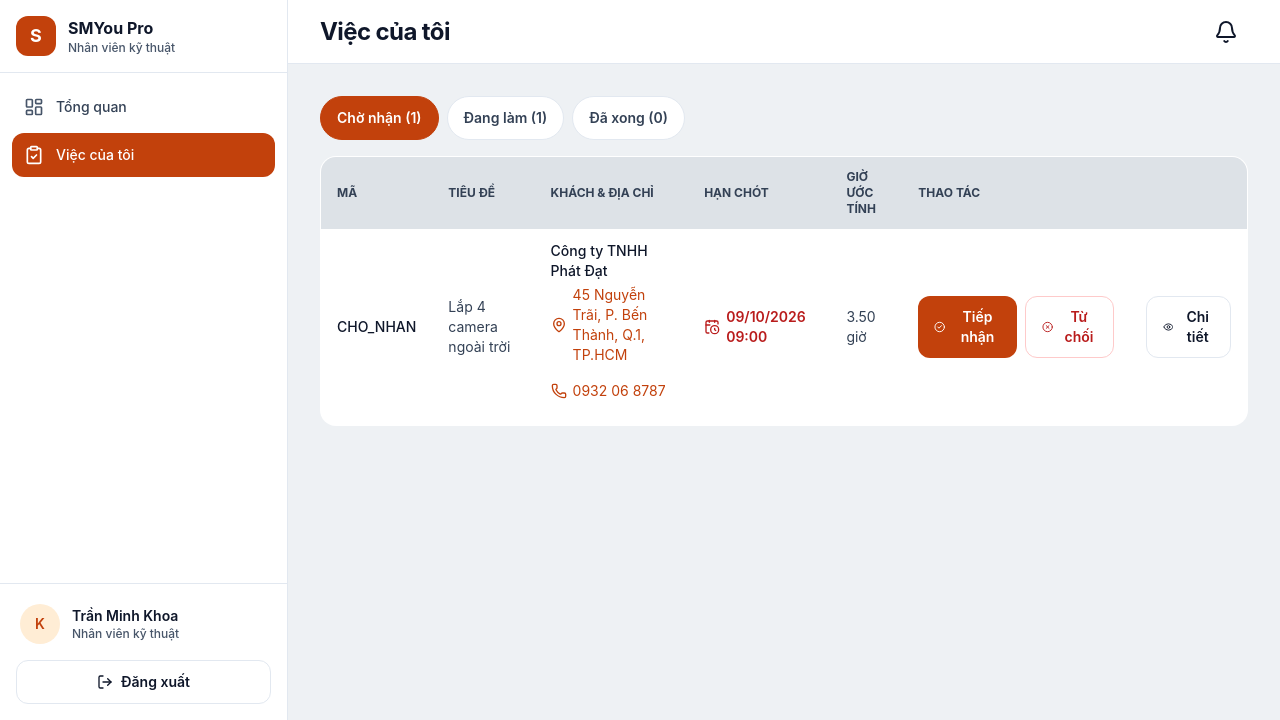
it: Việc của tôi › AC-ASG-035 nút Tiếp nhận/Từ chối chỉ hiện ở tab Chờ nhận
Expected: the text "CHO_NHAN" is shown, [320,229,432,426]
Expected: the button "Tiếp nhận" is shown, [918,296,1017,358]
Click the tab "Đang làm (1)": click(505, 118) [447,96,564,140]
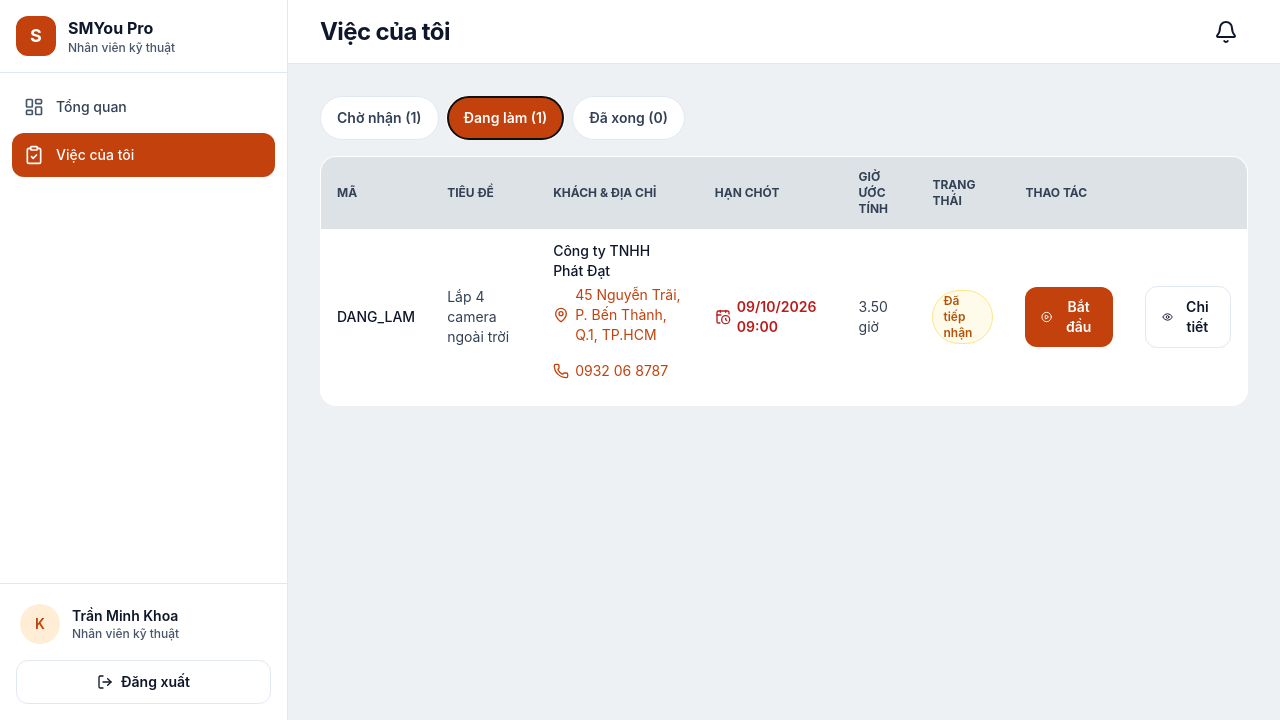
Expected: the text "DANG_LAM" is shown, [320,229,431,406]
Expected: the button "Từ chối" is gone
